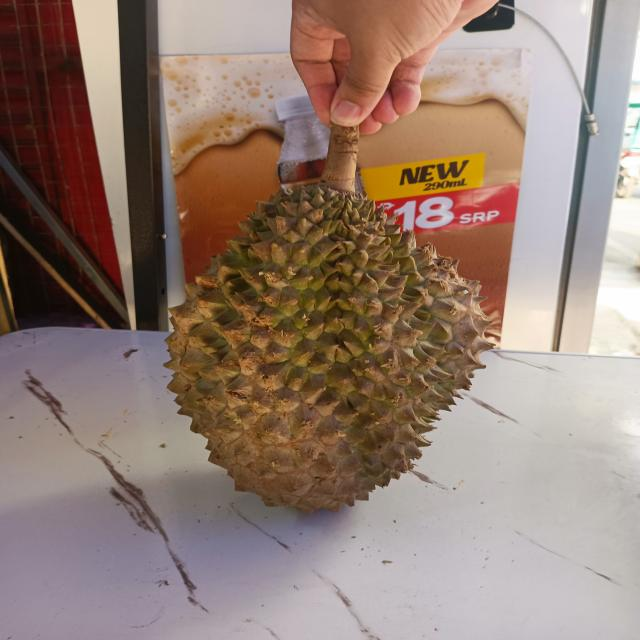mature: (167, 186, 488, 512)
